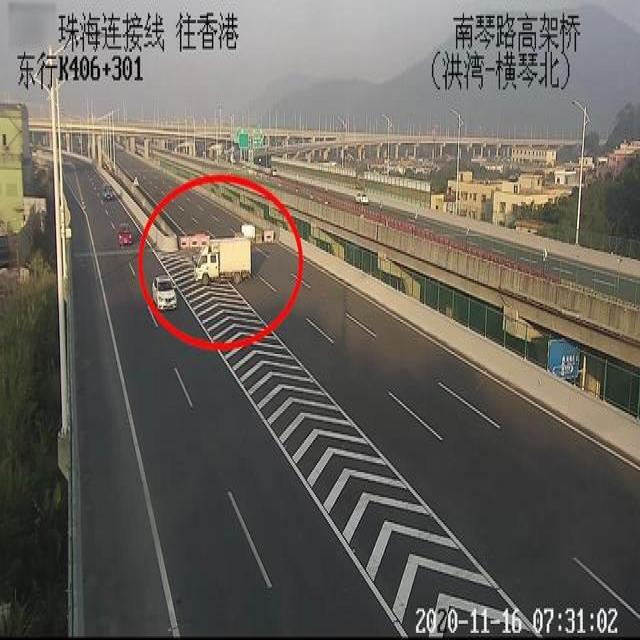point: (56, 79, 153, 213)
